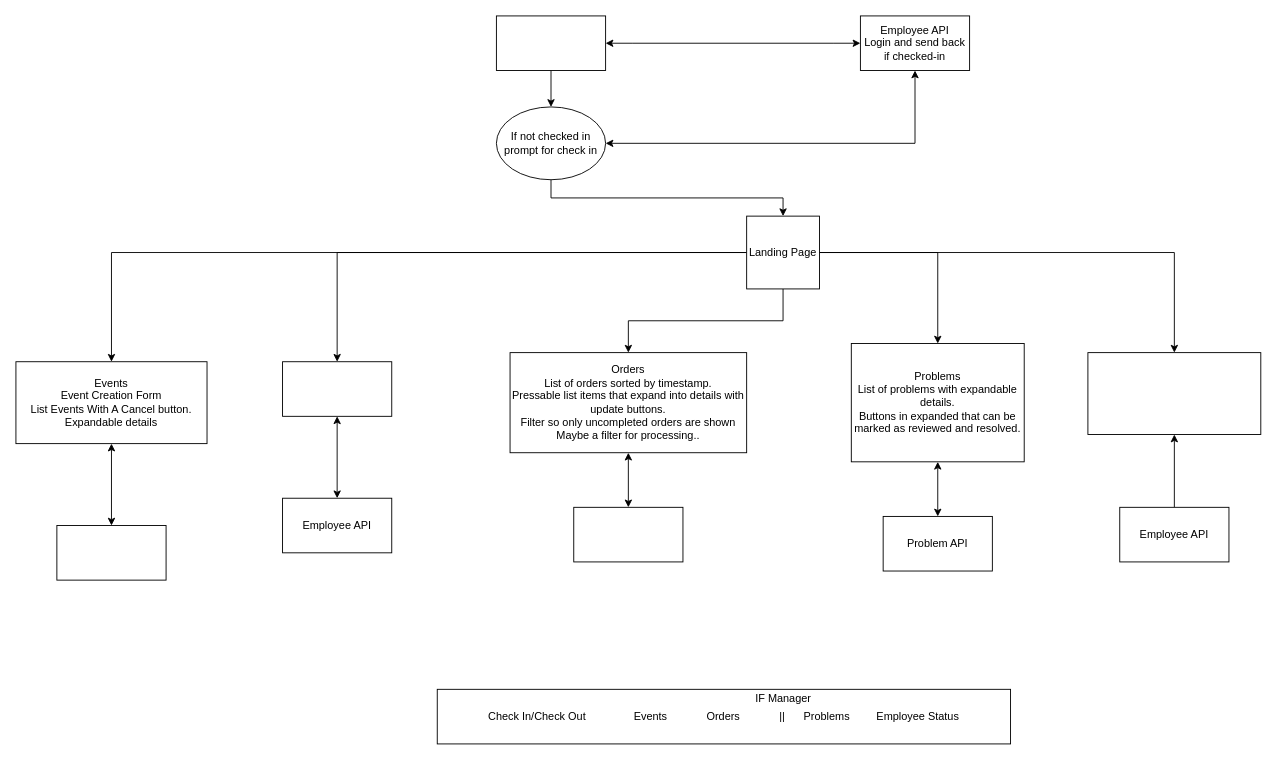
The diagram is 1277 pixels wide and 760 high, and some of its shapes have lost their labels. The shapes that lost their labels are listed below. From the top down, each one's box as (x1, y1, x2, y2) in pixels, then its label:
(495, 15, 606, 71): Login Page
(282, 361, 392, 416): Check/In Check/Out
(1087, 352, 1261, 435): Employee Status Default show only checked in. Can optionally show checked out.
(56, 525, 166, 580): Event API
(573, 506, 683, 562): Room Service API
